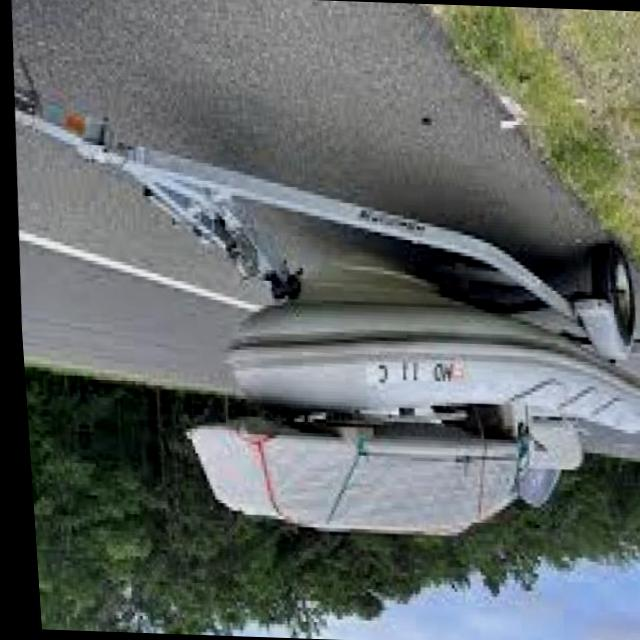ship2: (223, 300, 640, 431)
